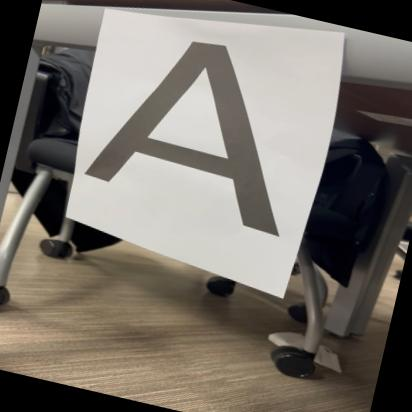seat: (72, 17, 334, 245)
